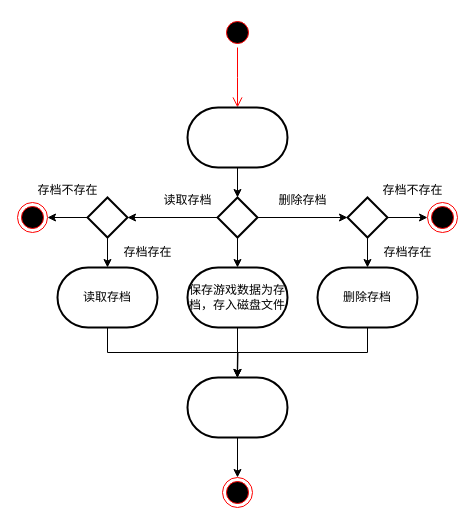
Image size: 475x525. Some labels were removed from this diagram. The shapes that lost their labels are listed below. From the top down, each one's centre as x and y in pixels, then its label:
At (237,137): "进入存档界面".
At (237,407): "返回存档文件或操作结果".
